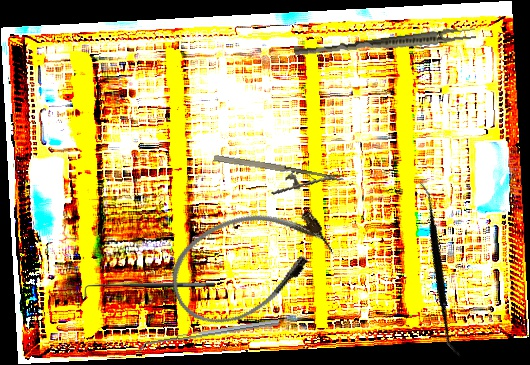Cannula: (156, 186, 343, 340)
Hook Surgical: (83, 281, 215, 297)
Needle Holder: (209, 150, 345, 208)
Spatula Surgical: (354, 180, 526, 358), (136, 319, 281, 353)
Tissue Forceps: (293, 23, 477, 63)
